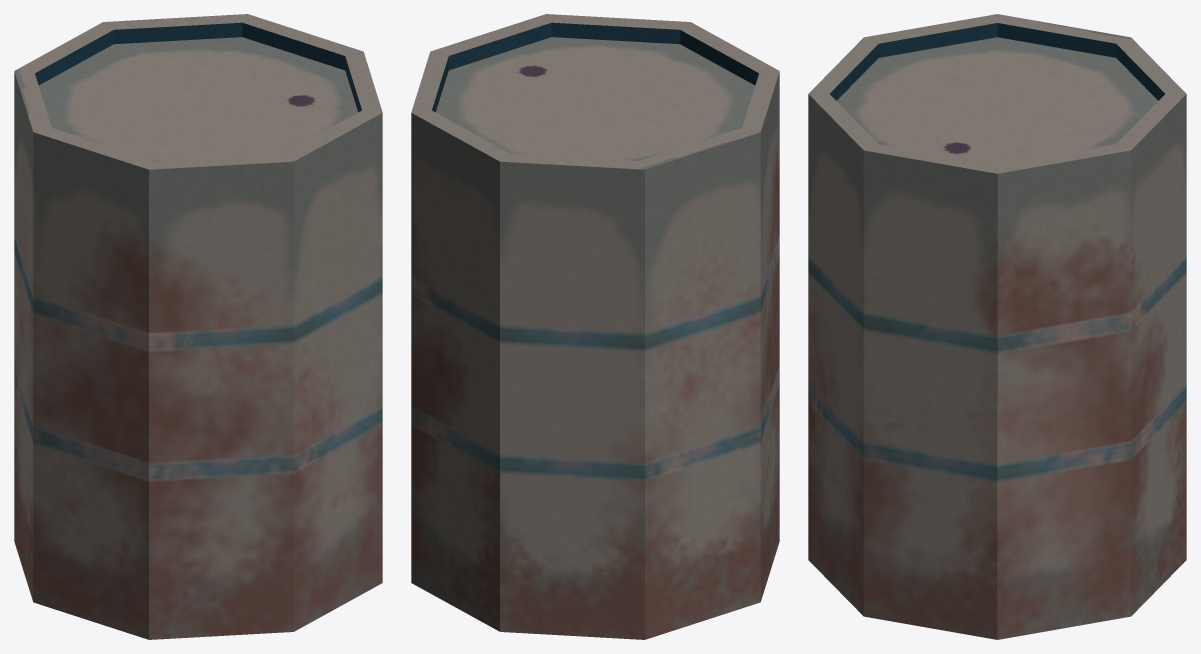
Rendered from Barrel.fbx.
3 renders of one model, left to right at view 1: azimuth 30°, elevation 25°; view 2: azimuth 150°, elevation 25°; view 3: azimuth 270°, elevation 25°, orthographic.
Visible parts, largest first — view 1: Cylinder; view 2: Cylinder; view 3: Cylinder.
Boxes of the visible parts, left/top/right/bottom form: Cylinder: left=14, top=14, right=382, bottom=639; Cylinder: left=411, top=14, right=779, bottom=639; Cylinder: left=808, top=14, right=1186, bottom=639.
Size of the model in its own units: 857 by 1165 by 857.
